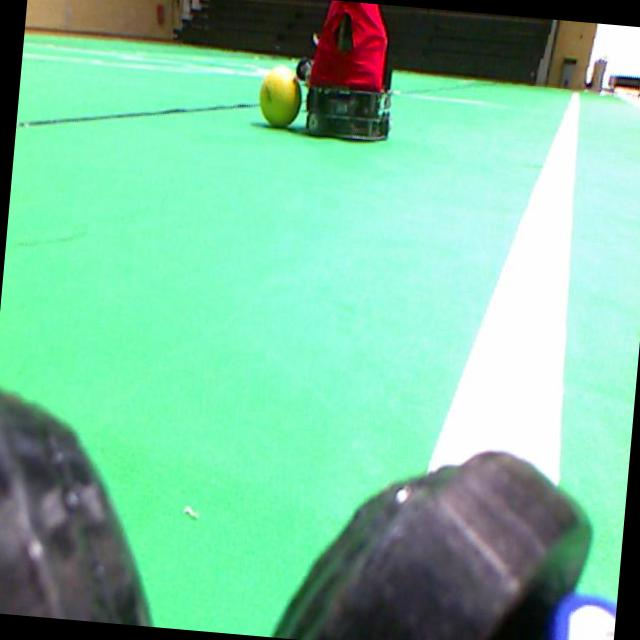ball: (258, 65, 300, 126)
